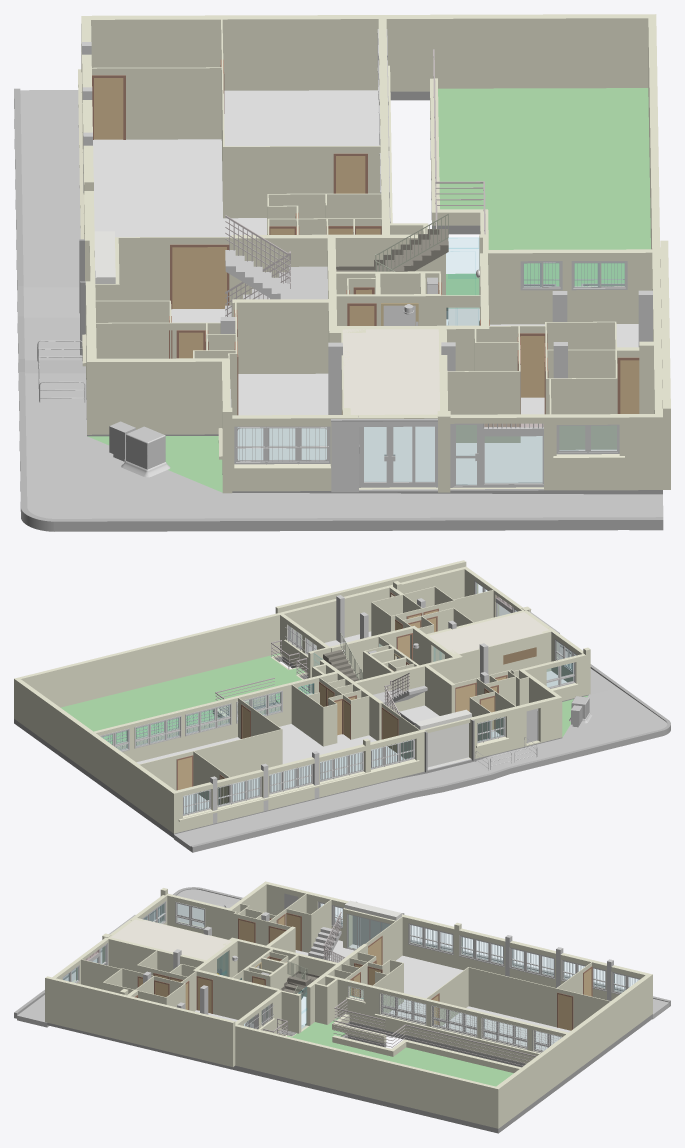
3 views of the same model, one above another, from view 1: azimuth 30°, elevation 25°; view 2: azimuth 150°, elevation 25°; view 3: azimuth 270°, elevation 25° (orthographic). The views are drawn at different scales.
Parts seen in each view (by area): view 1: 3RLTfSMBXE_BWgA7WbvgjJ, 2UhhXCNCjF1xC3dyjbG$SE, 1IQJpSU49DlPKPMYhdab9h, 0JJqPutQD7fgEmZfe5WIOV, 0JJqPutQD7fgEmZfq5WIOV, 0JJqPutQD7fgEmZfe5WIGF, 3RLTfSMBXE_BWgA7WbvgI5, 3RLTfSMBXE_BWgA7Wbvgna, 1ESEB1nMzCOBvAGWBX1s_l, 33ktarrbzBUOiXnLe84g54, 33ktarrbzBUOiXnLe84gQJ, 2uM98Xtxf8dwcRJJRwTGwH (+58 smaller); view 2: 3RLTfSMBXE_BWgA7Wbvgs$, 1IQJpSU49DlPKPMYhdab9h, 3RLTfSMBXE_BWgA7WbvgjJ, 2UhhXCNCjF1xC3dyjbG$SE, 0JJqPutQD7fgEmZfe5WIOV, 0JJqPutQD7fgEmZfq5WIOV, 1r7kD2unvCQ8TNvjz6uykQ, 33ktarrbzBUOiXnLe84g42, 059zzJJCT0Ohc6bi$ICakr, 1ESEB1nMzCOBvAGWBX1s_l, 3RLTfSMBXE_BWgA7WbvgBI, 1rLkdWJRf2ZxmyXYb$CIMe (+53 smaller); view 3: 3RLTfSMBXE_BWgA7Wbvgs$, 321EIHH0v8KOO2s9RjdAGp, 3RLTfSMBXE_BWgA7WbvgjJ, 33ktarrbzBUOiXnLe84g42, 2UhhXCNCjF1xC3dyjbG$SE, 3RLTfSMBXE_BWgA7Wbvfa1, 1r7kD2unvCQ8TNvjz6uykQ, 1IQJpSU49DlPKPMYhdab9h, 1ESEB1nMzCOBvAGWBX1s_l, 3RLTfSMBXE_BWgA7WbvgM$, 3RLTfSMBXE_BWgA7WbvgG4, 3RLTfSMBXE_BWgA7WbvglP (+53 smaller).
Boxes of the visible parts, bbox=[...] form: 3RLTfSMBXE_BWgA7WbvgjJ: bbox=[91, 14, 648, 91]; 2UhhXCNCjF1xC3dyjbG$SE: bbox=[93, 90, 638, 484]; 1IQJpSU49DlPKPMYhdab9h: bbox=[438, 88, 650, 295]; 0JJqPutQD7fgEmZfe5WIOV: bbox=[25, 373, 222, 518]; 0JJqPutQD7fgEmZfq5WIOV: bbox=[20, 90, 80, 287]; 0JJqPutQD7fgEmZfe5WIGF: bbox=[18, 372, 663, 531]; 3RLTfSMBXE_BWgA7WbvgI5: bbox=[96, 358, 229, 434]; 3RLTfSMBXE_BWgA7Wbvgna: bbox=[483, 249, 652, 324]; 1ESEB1nMzCOBvAGWBX1s_l: bbox=[342, 329, 439, 414]; 33ktarrbzBUOiXnLe84g54: bbox=[92, 67, 221, 139]; 33ktarrbzBUOiXnLe84gQJ: bbox=[224, 145, 380, 218]; 2uM98Xtxf8dwcRJJRwTGwH: bbox=[232, 299, 328, 373]; 3RLTfSMBXE_BWgA7Wbvgs$: bbox=[14, 566, 467, 719]; 1IQJpSU49DlPKPMYhdab9h: bbox=[61, 653, 309, 744]; 3RLTfSMBXE_BWgA7WbvgjJ: bbox=[16, 679, 175, 831]; 2UhhXCNCjF1xC3dyjbG$SE: bbox=[136, 631, 566, 813]; 0JJqPutQD7fgEmZfe5WIOV: bbox=[492, 688, 667, 767]; 0JJqPutQD7fgEmZfq5WIOV: bbox=[174, 780, 410, 850]; 1r7kD2unvCQ8TNvjz6uykQ: bbox=[94, 683, 288, 762]; 33ktarrbzBUOiXnLe84g42: bbox=[139, 729, 282, 790]; 059zzJJCT0Ohc6bi$ICakr: bbox=[469, 695, 562, 758]; 1ESEB1nMzCOBvAGWBX1s_l: bbox=[429, 612, 550, 653]; 3RLTfSMBXE_BWgA7WbvgBI: bbox=[354, 655, 462, 712]; 1rLkdWJRf2ZxmyXYb$CIMe: bbox=[414, 709, 471, 767]; 3RLTfSMBXE_BWgA7Wbvgs$: bbox=[235, 1024, 500, 1128]; 321EIHH0v8KOO2s9RjdAGp: bbox=[45, 976, 235, 1066]; 3RLTfSMBXE_BWgA7WbvgjJ: bbox=[496, 975, 650, 1126]; 33ktarrbzBUOiXnLe84g42: bbox=[468, 967, 610, 1028]; 2UhhXCNCjF1xC3dyjbG$SE: bbox=[195, 940, 570, 1050]; 3RLTfSMBXE_BWgA7Wbvfa1: bbox=[47, 1014, 652, 1133]; 1r7kD2unvCQ8TNvjz6uykQ: bbox=[373, 986, 567, 1063]; 1IQJpSU49DlPKPMYhdab9h: bbox=[287, 1017, 513, 1086]; 1ESEB1nMzCOBvAGWBX1s_l: bbox=[111, 918, 231, 960]; 3RLTfSMBXE_BWgA7WbvgM$: bbox=[196, 970, 279, 1023]; 3RLTfSMBXE_BWgA7WbvgG4: bbox=[108, 937, 205, 972]; 3RLTfSMBXE_BWgA7WbvglP: bbox=[321, 974, 375, 1027].
Size of the model in its own units: 32.78 by 4.51 by 37.66.
